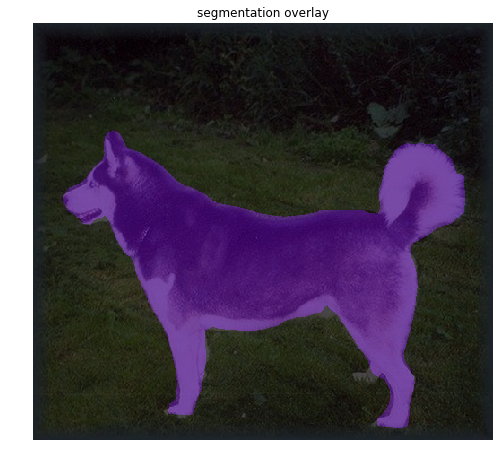unlabelled: (37, 27, 490, 436)
